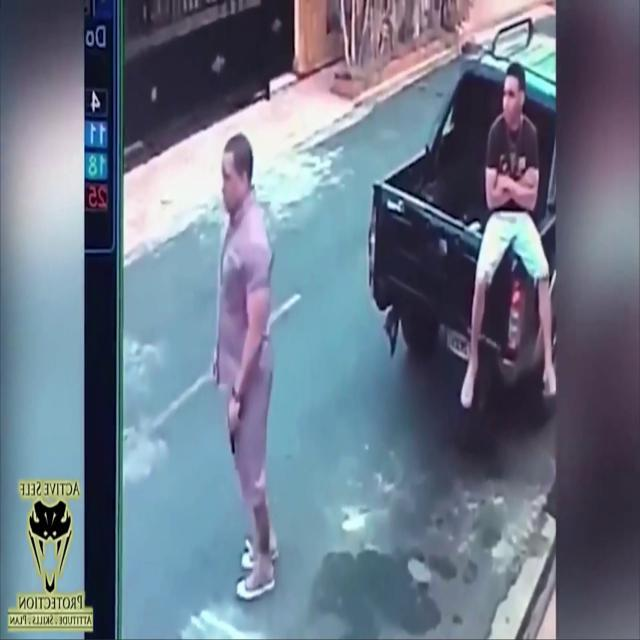Gun: (226, 400, 245, 454)
